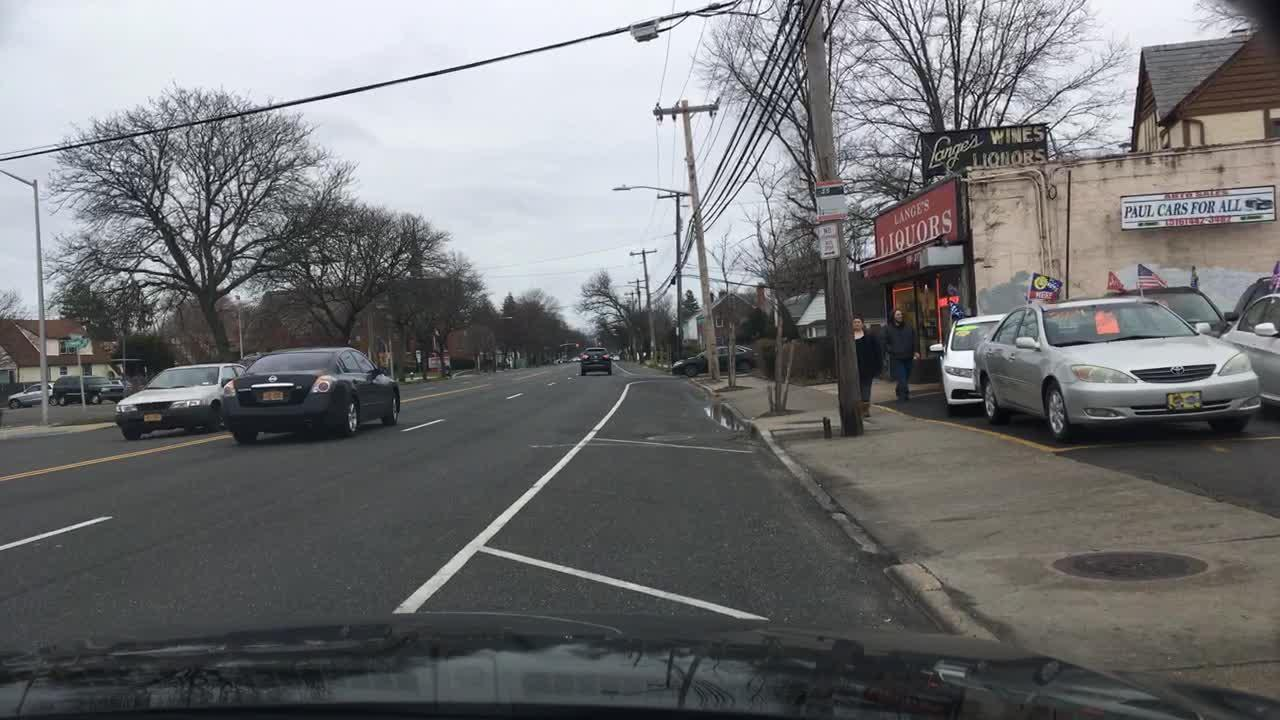Nissan: (264, 373, 280, 387)
Toyota: (1167, 359, 1191, 382)
